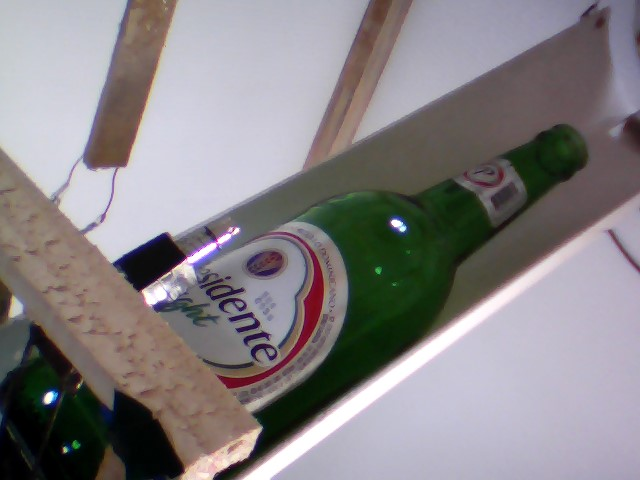vidrio: (216, 118, 592, 445)
